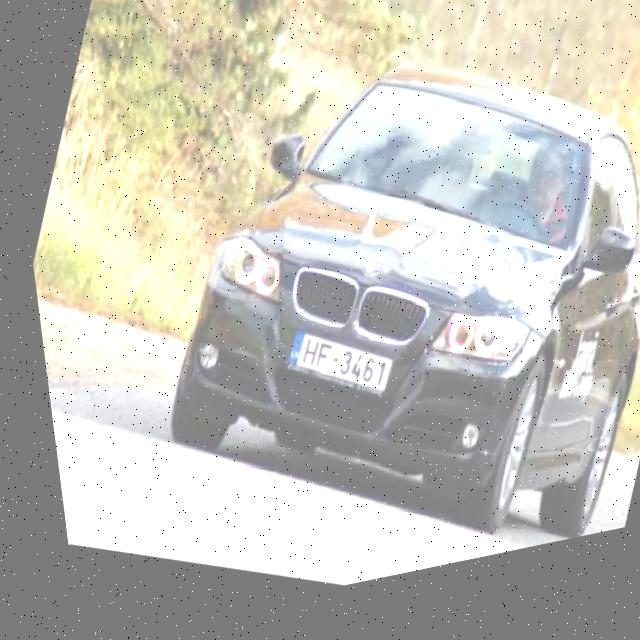license_plate: (266, 322, 393, 428)
